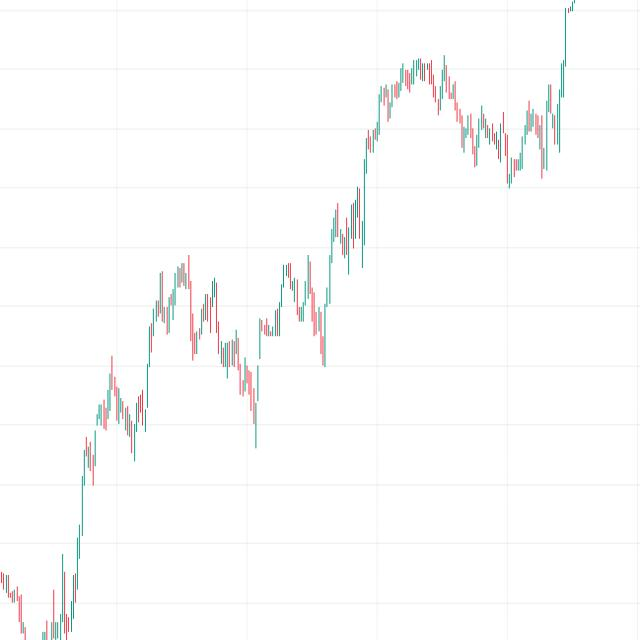Triple-Top: (140, 247, 224, 365)
